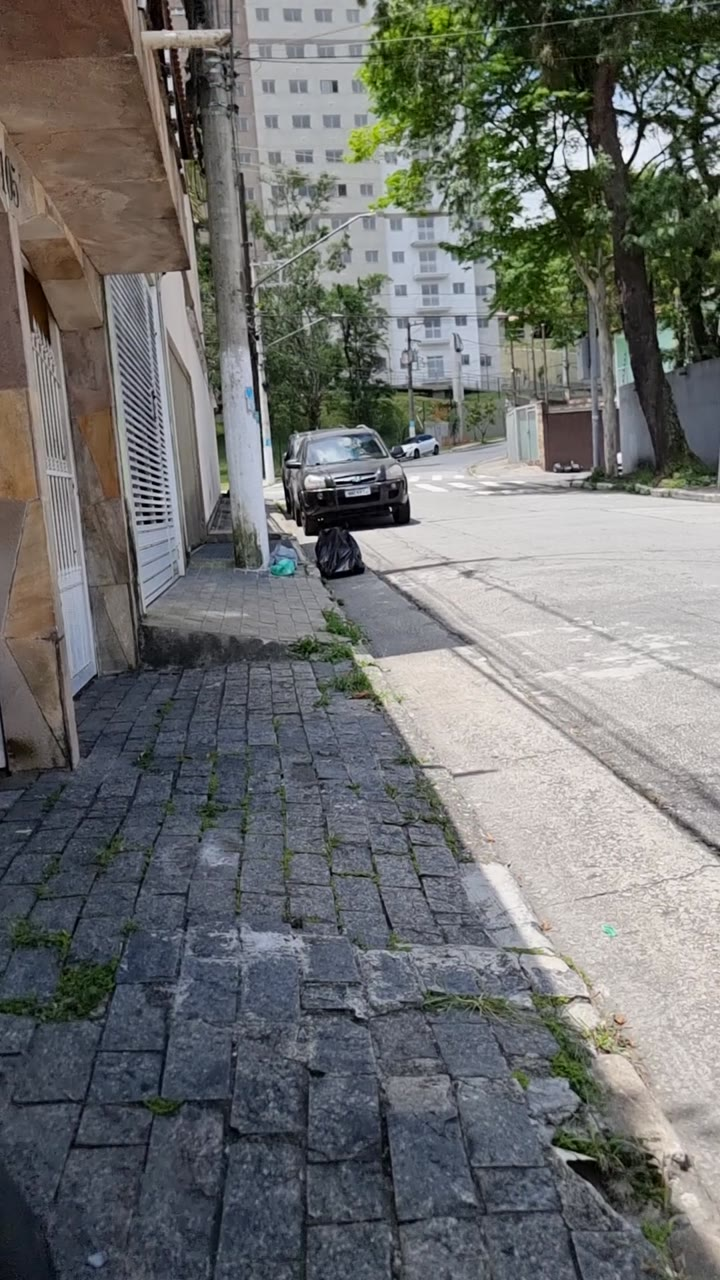obstaculo: (216, 0, 266, 550), (315, 527, 364, 579)
